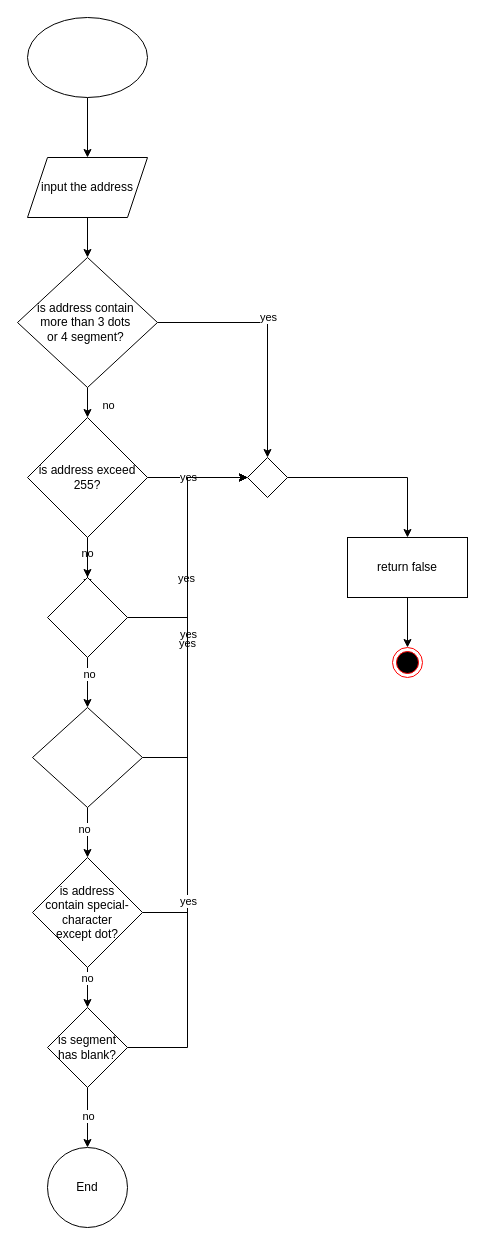
This 485x1245 diagram has some shape labels left out. Here are the shapes that lost their labels. From the top down, the centre of each, then its label:
pixel 87 57: Start
pixel 87 617: is address below 0?
pixel 87 757: is address contain alphabetic character ?
